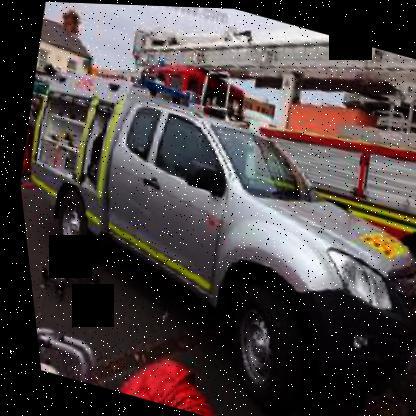emergency: (3, 40, 415, 415), (67, 33, 415, 358)
